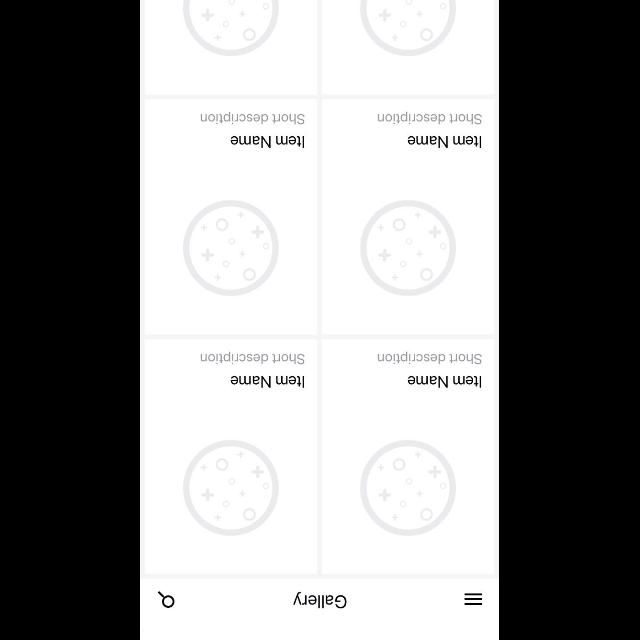icon: (158, 590, 175, 608), (466, 593, 482, 605)
image: (360, 439, 456, 536), (183, 439, 279, 535), (184, 200, 280, 296), (360, 200, 456, 296), (359, 0, 456, 58), (182, 0, 280, 56)
panel: (144, 338, 318, 574), (322, 338, 496, 574), (322, 99, 496, 335), (144, 99, 318, 335), (144, 0, 318, 94), (322, 0, 496, 94)
text: (201, 112, 305, 125), (378, 112, 482, 125), (201, 352, 305, 364), (378, 352, 482, 364), (408, 136, 482, 148), (231, 136, 305, 148), (408, 376, 482, 388), (231, 375, 305, 387), (293, 592, 347, 608)
